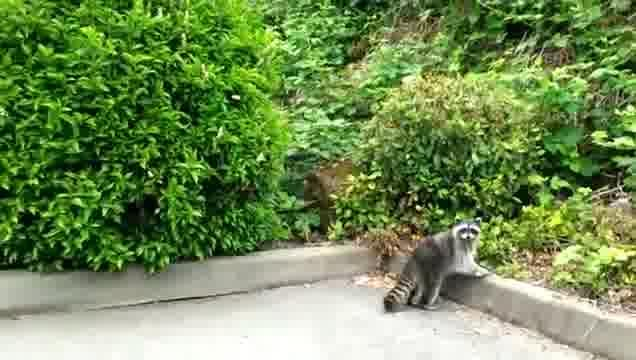raccoon: (381, 217, 492, 315)
